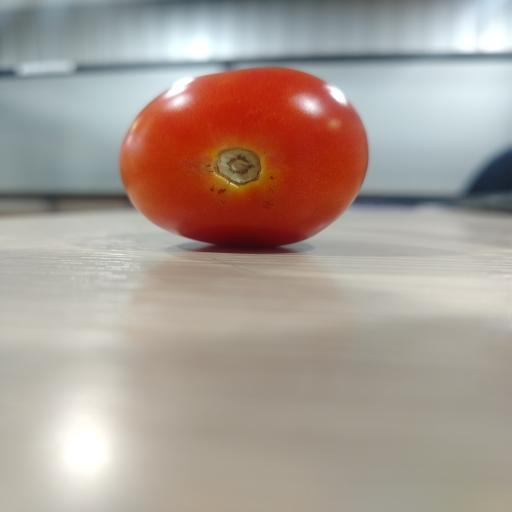ripe: (120, 68, 368, 246)
